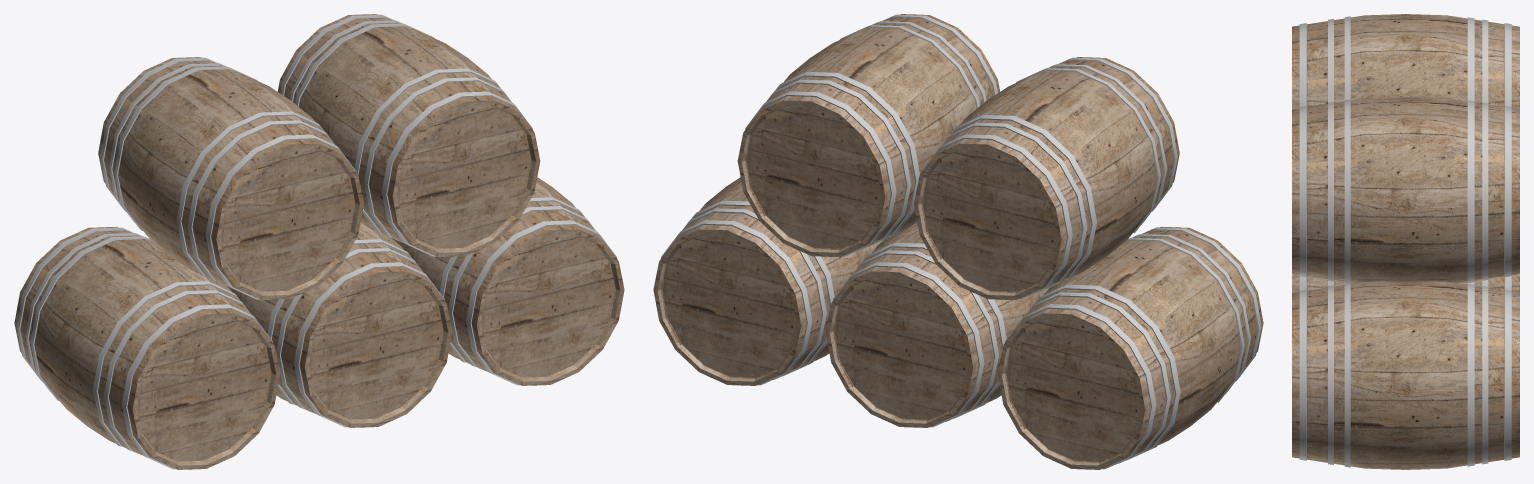
File: woddenBarrelStack03.FBX
3 views of the same model, side by side, from view 1: azimuth 30°, elevation 25°; view 2: azimuth 150°, elevation 25°; view 3: azimuth 270°, elevation 25° (orthographic). The views are drawn at different scales.
Visible parts, largest first — view 1: woodenBarrelStack03; view 2: woodenBarrelStack03; view 3: woodenBarrelStack03.
Boxes of the visible parts, left/top/right/bottom form: woodenBarrelStack03: left=14, top=14, right=624, bottom=469; woodenBarrelStack03: left=653, top=14, right=1263, bottom=469; woodenBarrelStack03: left=1292, top=14, right=1519, bottom=469.
Bounding box in the file's own units: 2.26 × 1.38 × 0.9.
